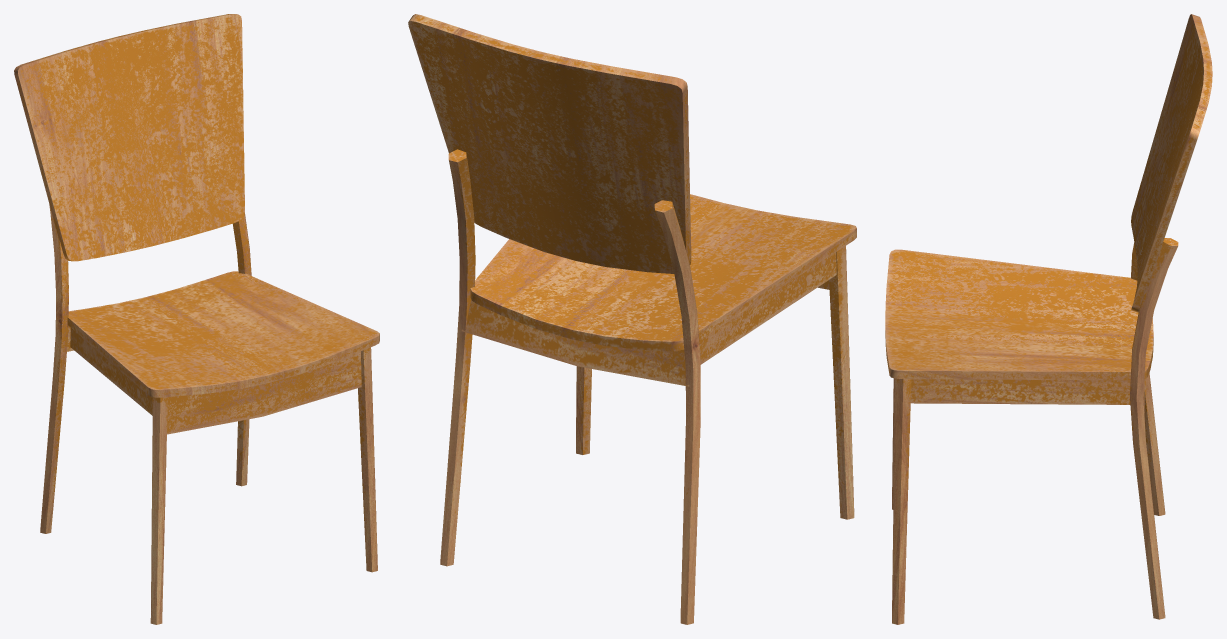
File: chair_99fc178e.glb
The picture shows the model from 3 angles, left to right: view 1: azimuth 30°, elevation 25°; view 2: azimuth 150°, elevation 25°; view 3: azimuth 270°, elevation 25°; orthographic projection. The views are drawn at different scales.
Visible parts, largest first — view 1: Object_2; view 2: Object_2; view 3: Object_2.
Part boxes in pixels (bbox=[...]): Object_2: bbox=[14, 14, 379, 624]; Object_2: bbox=[408, 14, 856, 624]; Object_2: bbox=[885, 14, 1212, 624].
Bounding box in the file's own units: 36.15 × 68.79 × 41.29.
Materials: 1 (1 with a texture image).
